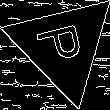P_E: (34, 22, 91, 70)
